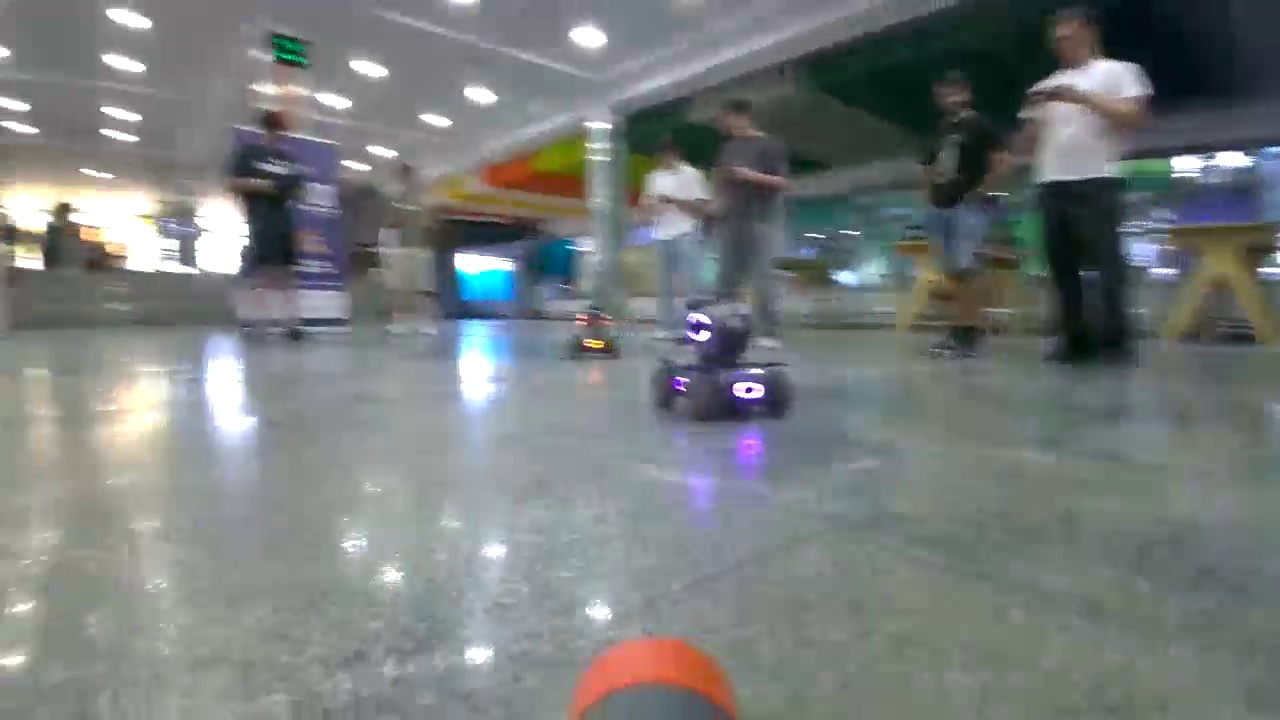robot: (660, 306, 786, 413), (574, 310, 620, 355)
